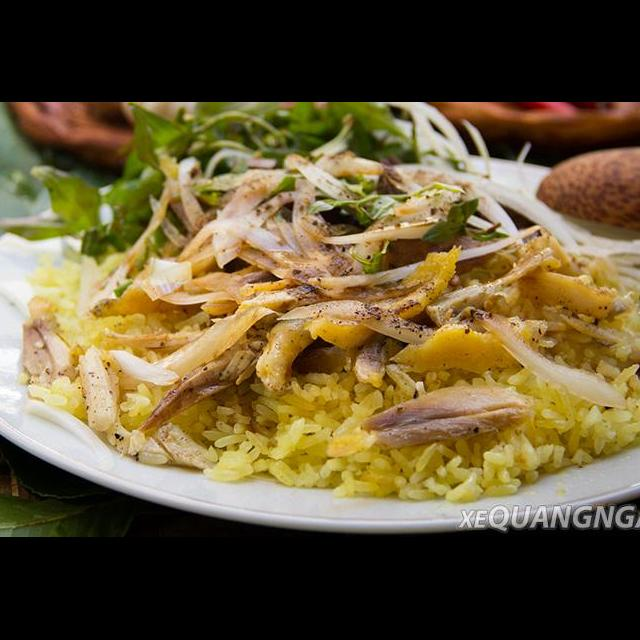com: (198, 357, 640, 504), (17, 252, 214, 448), (455, 247, 640, 385)
com ga: (0, 138, 640, 537)
rau ram: (0, 103, 202, 264), (170, 104, 430, 170)
thit ga: (357, 381, 538, 458), (15, 316, 80, 394)
